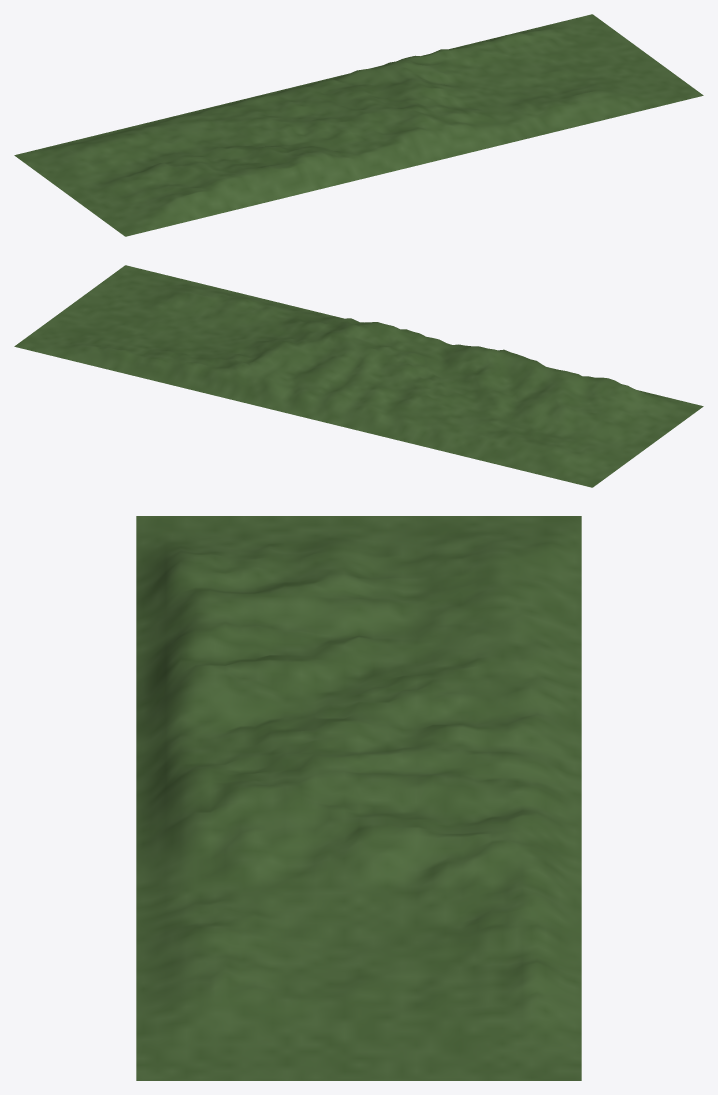
The model's file is collserola-v2.glb.
3 renders of one model, top to bottom at view 1: azimuth 30°, elevation 25°; view 2: azimuth 150°, elevation 25°; view 3: azimuth 270°, elevation 25°, orthographic. The views are drawn at different scales.
Visible parts, largest first — view 1: terrain; view 2: terrain; view 3: terrain.
Part boxes in pixels (bbox=[...]): terrain: bbox=[14, 14, 703, 236]; terrain: bbox=[14, 265, 703, 487]; terrain: bbox=[136, 516, 581, 1080].
Bounding box in the file's own units: 13354 × 486 × 4453.
1 material, 1 textured.
